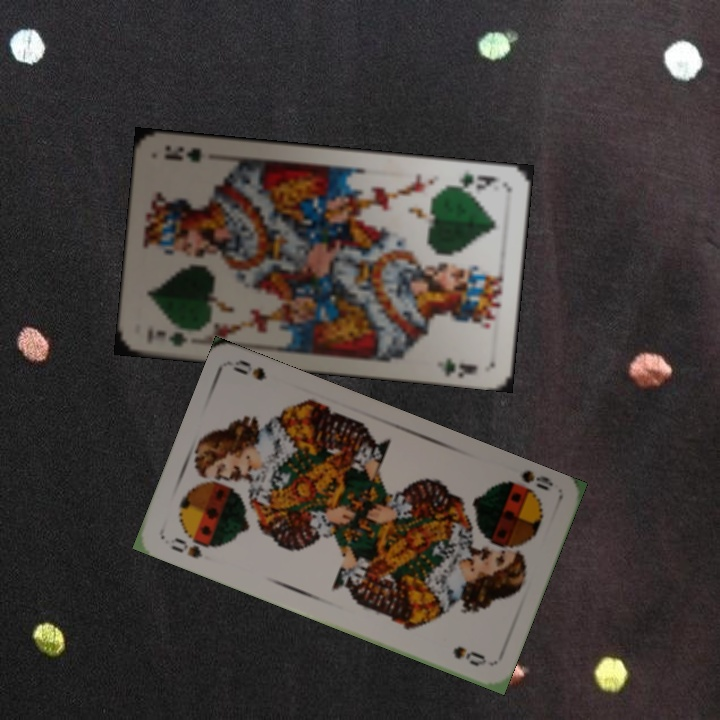GK: (446, 168, 500, 194), (152, 327, 189, 350)
SO: (497, 466, 556, 499), (166, 532, 220, 561)
